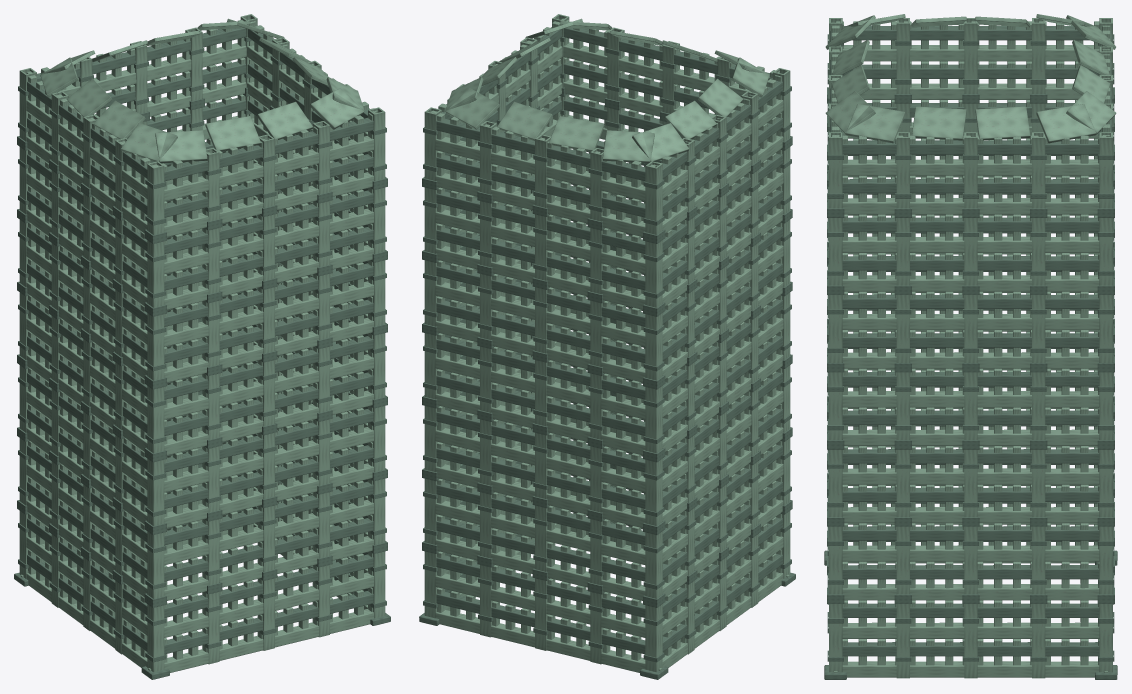
3 renders of one model, left to right at view 1: azimuth 30°, elevation 25°; view 2: azimuth 150°, elevation 25°; view 3: azimuth 270°, elevation 25°, orthographic. The views are drawn at different scales.
Visible parts, largest first — view 1: Crown alloy petal 0-1, Crown alloy petal 0-0, Crown alloy petal 0-2, Crown alloy petal 3-3, Crown alloy petal 3-2, Crown alloy petal 0-3, Tier 6 side 0 post 0, Tier 0 side 0 post 0, Tier 5 side 0 post 0, Tier 4 side 0 post 0, Tier 2 side 0 post 0, Tier 1 side 0 post 0 (+105 smaller); view 2: Crown alloy petal 2-2, Crown alloy petal 2-3, Crown alloy petal 2-1, Crown alloy petal 3-0, Crown alloy petal 3-1, Tier 6 side 3 post 0, Crown alloy petal 2-0, Tier 0 side 3 post 0, Tier 1 side 3 post 0, Tier 4 side 3 post 0, Tier 5 side 3 post 0, Tier 2 side 3 post 0 (+101 smaller); view 3: Crown alloy petal 1-1, Crown alloy petal 1-2, Crown alloy petal 1-3, Crown alloy petal 1-0, Crown alloy petal 0-3, Crown alloy petal 2-0, Tier 6 side 1 post 2, Tier 6 side 1 post 1, Tier 6 side 1 post 3, Tier 6 side 1 post 0, Tier 6 side 2 post 0, Tier 6 side 3 post 1 (+166 smaller).
Boxes of the visible parts, left/top/right/bottom form: Crown alloy petal 0-1: left=205, top=116, right=260, bottom=151; Crown alloy petal 0-0: left=155, top=130, right=207, bottom=163; Crown alloy petal 0-2: left=257, top=101, right=312, bottom=139; Crown alloy petal 3-3: left=120, top=123, right=177, bottom=161; Crown alloy petal 3-2: left=93, top=100, right=145, bottom=139; Crown alloy petal 0-3: left=310, top=88, right=364, bottom=129; Tier 6 side 0 post 0: left=147, top=161, right=164, bottom=234; Tier 0 side 0 post 0: left=147, top=604, right=164, bottom=672; Tier 5 side 0 post 0: left=147, top=240, right=164, bottom=307; Tier 4 side 0 post 0: left=147, top=313, right=164, bottom=380; Tier 2 side 0 post 0: left=147, top=458, right=164, bottom=525; Tier 1 side 0 post 0: left=147, top=531, right=164, bottom=598; Crown alloy petal 2-2: left=549, top=116, right=604, bottom=151; Crown alloy petal 2-3: left=602, top=130, right=654, bottom=163; Crown alloy petal 2-1: left=497, top=101, right=552, bottom=140; Crown alloy petal 3-0: left=632, top=123, right=689, bottom=161; Crown alloy petal 3-1: left=664, top=100, right=716, bottom=139; Tier 6 side 3 post 0: left=645, top=161, right=662, bottom=234; Crown alloy petal 2-0: left=446, top=88, right=499, bottom=129; Tier 0 side 3 post 0: left=645, top=604, right=662, bottom=672; Tier 1 side 3 post 0: left=645, top=531, right=662, bottom=598; Tier 4 side 3 post 0: left=645, top=313, right=662, bottom=380; Tier 5 side 3 post 0: left=645, top=240, right=662, bottom=307; Tier 2 side 3 post 0: left=645, top=458, right=662, bottom=525; Crown alloy petal 1-1: left=912, top=106, right=966, bottom=140; Crown alloy petal 1-2: left=975, top=106, right=1030, bottom=140; Crown alloy petal 1-3: left=1036, top=104, right=1096, bottom=143; Crown alloy petal 1-0: left=845, top=104, right=905, bottom=143; Crown alloy petal 0-3: left=825, top=91, right=875, bottom=134; Crown alloy petal 2-0: left=1066, top=91, right=1116, bottom=134; Tier 6 side 1 post 2: left=964, top=132, right=977, bottom=208; Tier 6 side 1 post 1: left=896, top=132, right=909, bottom=208; Tier 6 side 1 post 3: left=1032, top=132, right=1045, bottom=208; Tier 6 side 1 post 0: left=829, top=132, right=842, bottom=208; Tier 6 side 2 post 0: left=1099, top=132, right=1112, bottom=208; Tier 6 side 3 post 1: left=1032, top=18, right=1045, bottom=93.
Size of the model in its own units: 1.95 by 4.08 by 1.95.
2 materials, 2 textured.
